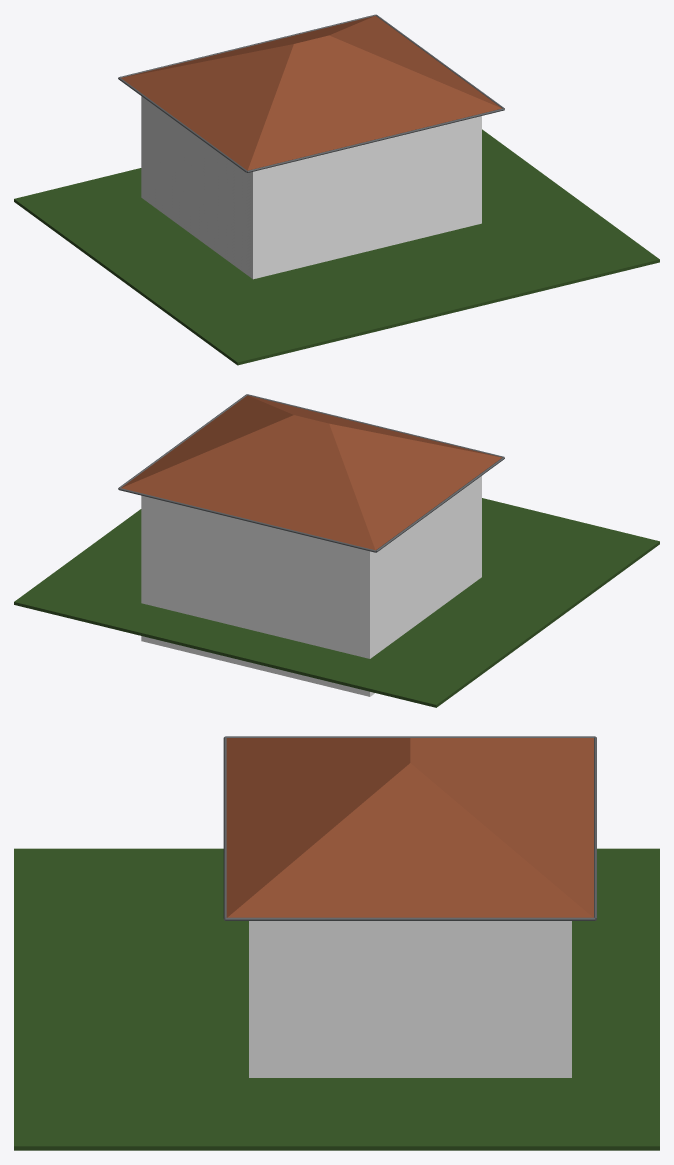
The model's file is bina_12_u.glb.
3 renders of one model, top to bottom at view 1: azimuth 30°, elevation 25°; view 2: azimuth 150°, elevation 25°; view 3: azimuth 270°, elevation 25°, orthographic. The views are drawn at different scales.
Visible parts, largest first — view 1: P12_Villa_L2.001; view 2: P12_Villa_L2.001; view 3: P12_Villa_L2.001.
Boxes of the visible parts, x1=… form: P12_Villa_L2.001: x1=14, y1=14, x2=659, y2=365; P12_Villa_L2.001: x1=14, y1=394, x2=659, y2=707; P12_Villa_L2.001: x1=14, y1=736, x2=659, y2=1150.
Size of the model in its own units: 24 by 11.34 by 22.
